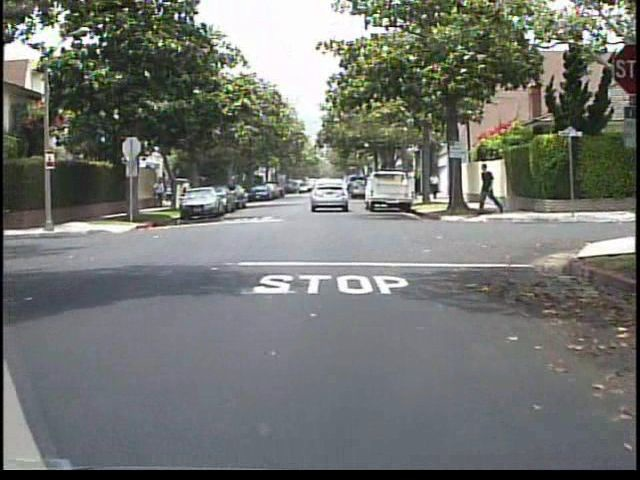person: (477, 160, 504, 218), (426, 168, 443, 202), (153, 178, 171, 208), (179, 176, 195, 207)
